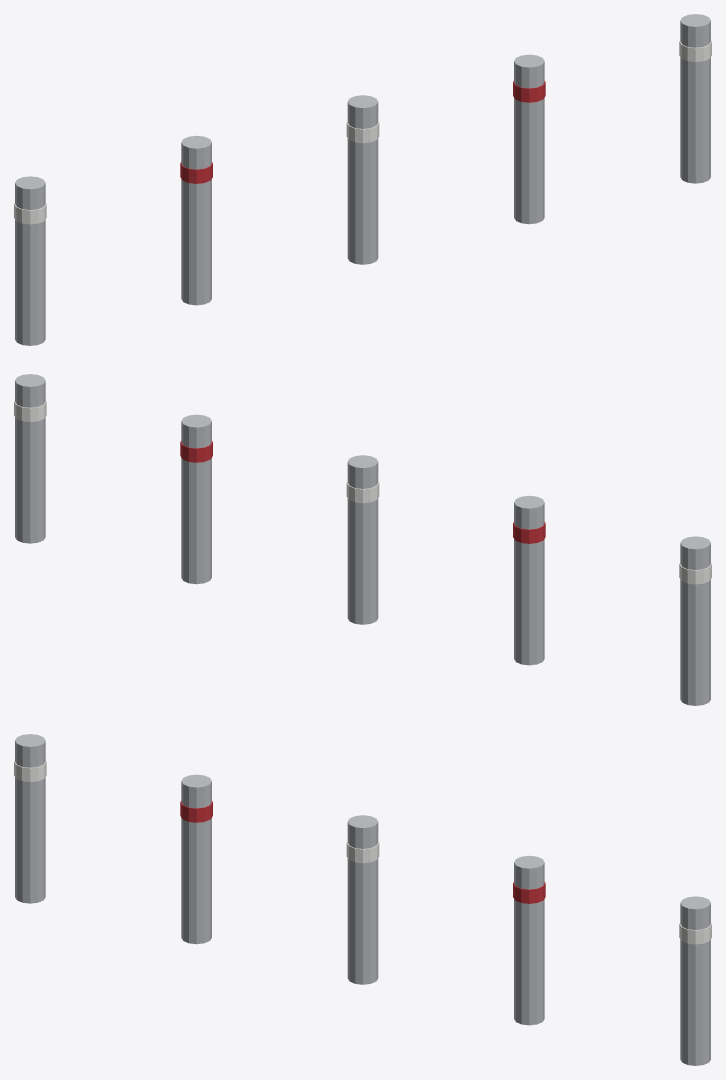
File: bollards.glb
The picture shows the model from 3 angles, top to bottom: view 1: azimuth 30°, elevation 25°; view 2: azimuth 150°, elevation 25°; view 3: azimuth 330°, elevation 25°; orthographic projection.
Visible parts, largest first — view 1: bollards; view 2: bollards; view 3: bollards.
Part boxes in pixels (box(x1,y1,x2,y2)): bollards: box(14, 14, 711, 345); bollards: box(14, 374, 711, 705); bollards: box(14, 734, 711, 1065).
Bounding box in the file's own units: 4.17 × 0.9 × 0.17.
